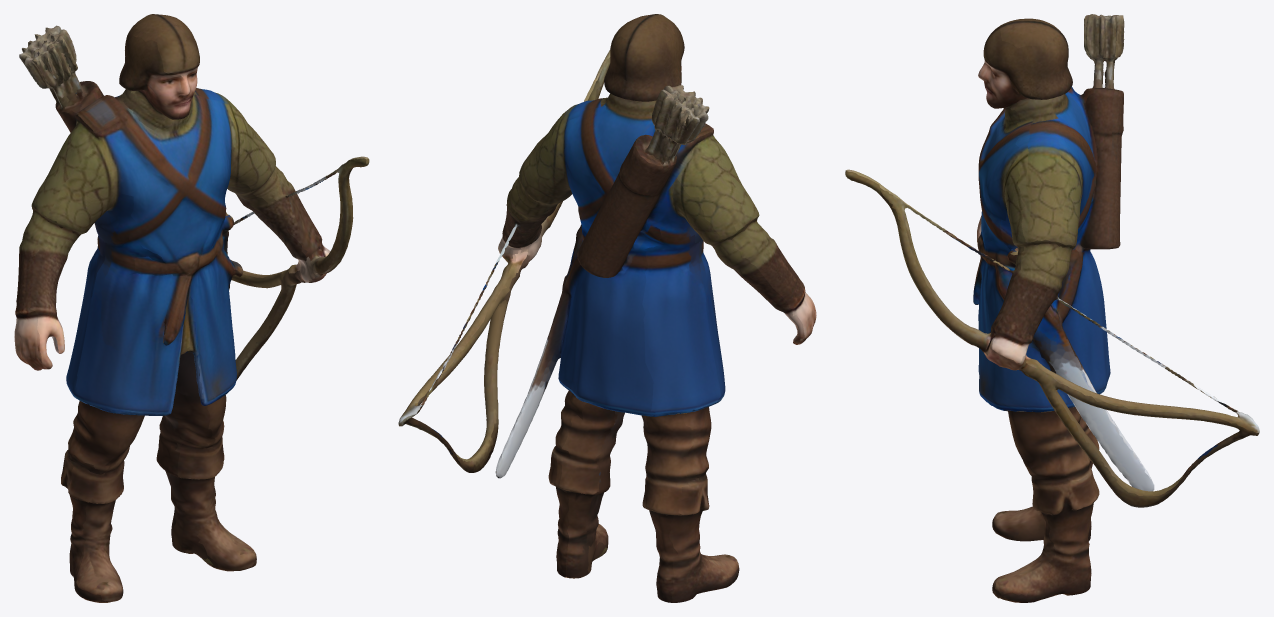
File: archer-hunyuan-mv.glb
3 views of the same model, side by side, from view 1: azimuth 30°, elevation 25°; view 2: azimuth 150°, elevation 25°; view 3: azimuth 270°, elevation 25° (orthographic). The views are drawn at different scales.
Visible parts, largest first — view 1: tmpa6rcqjb8.ply; view 2: tmpa6rcqjb8.ply; view 3: tmpa6rcqjb8.ply.
Boxes of the visible parts, <box> form: tmpa6rcqjb8.ply: <box>14,14,369,602</box>; tmpa6rcqjb8.ply: <box>398,14,816,602</box>; tmpa6rcqjb8.ply: <box>845,14,1259,602</box>.
Size of the model in its own units: 0.5781 by 0.9876 by 0.6834.
1 material, 1 textured.
